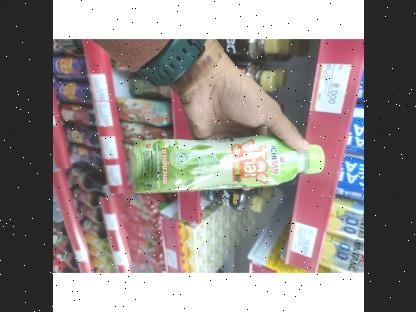Plastic Bottle: (107, 116, 341, 210)
